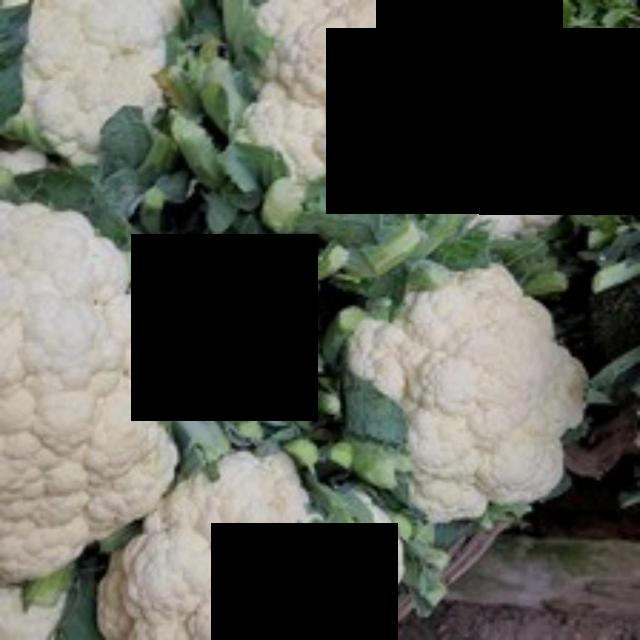cauliflower: (240, 0, 600, 249), (0, 195, 198, 585), (342, 270, 592, 546)
